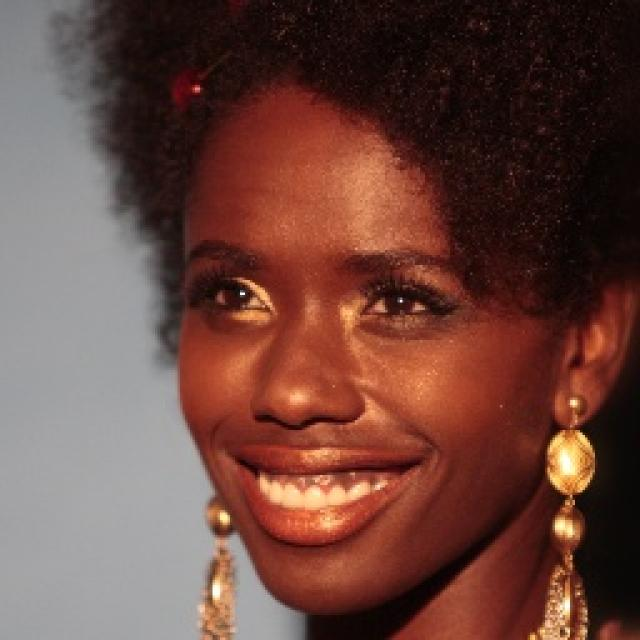earlobe: (552, 365, 602, 429)
eye: (361, 288, 439, 324), (202, 278, 272, 318)
nose: (252, 410, 366, 440)
wholeear: (552, 260, 639, 429)
